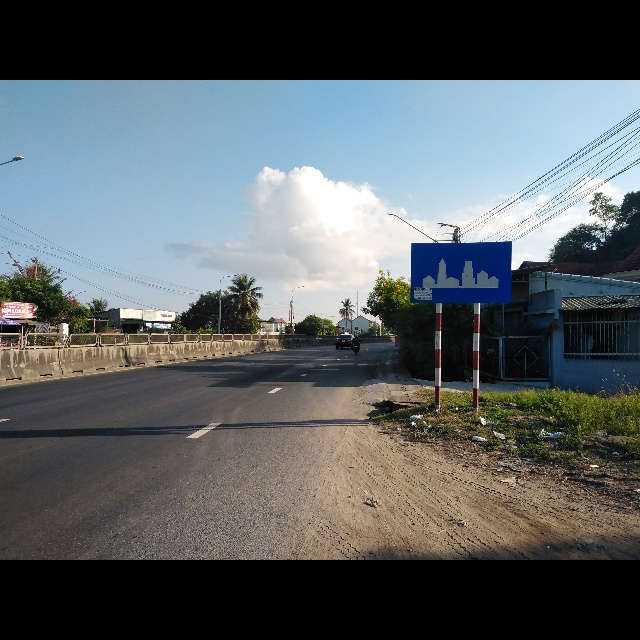Khu đông dân cư: (408, 240, 513, 304)
